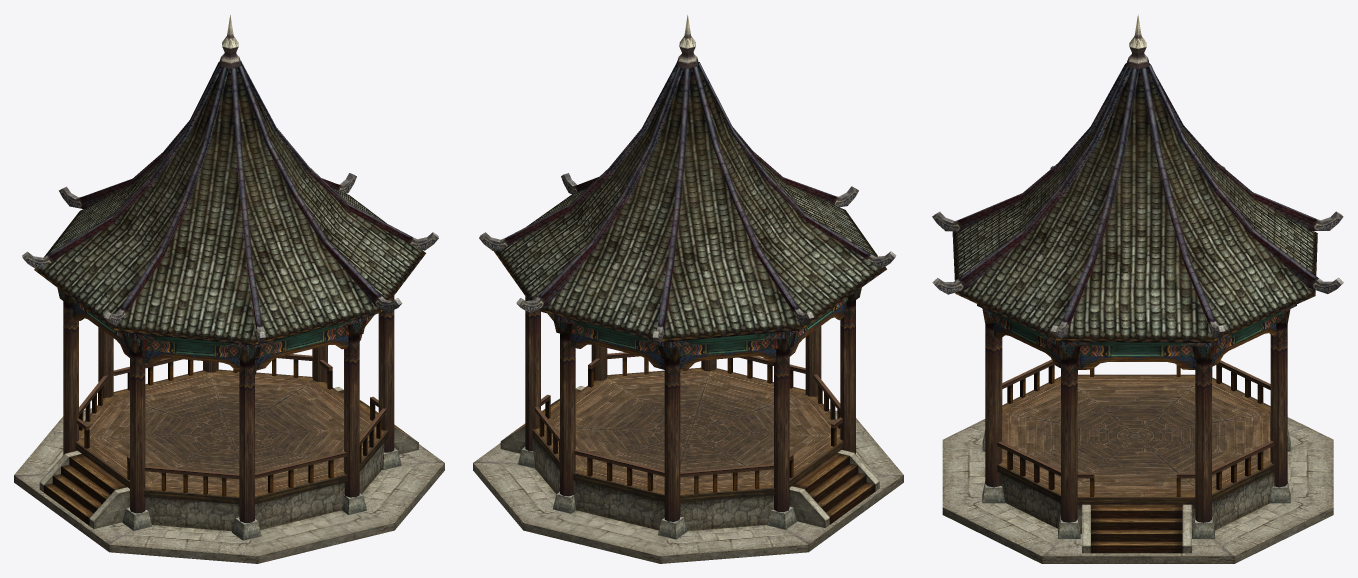
File: b1-001-house3.fbx
The picture shows the model from 3 angles, left to right: view 1: azimuth 30°, elevation 25°; view 2: azimuth 150°, elevation 25°; view 3: azimuth 270°, elevation 25°; orthographic projection.
Visible parts, largest first — view 1: b1-001-house3; view 2: b1-001-house3; view 3: b1-001-house3.
Part boxes in pixels (left/top/right/bottom): b1-001-house3: left=14, top=15, right=444, bottom=563; b1-001-house3: left=473, top=15, right=903, bottom=563; b1-001-house3: left=932, top=14, right=1343, bottom=563.
Bounding box in the file's own units: 8.17 × 10.74 × 8.58.
